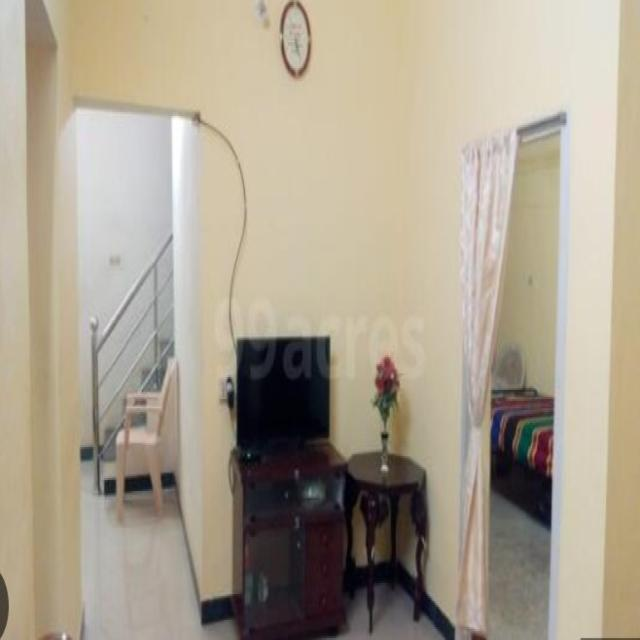Non_Damaged: (10, 5, 631, 640)
